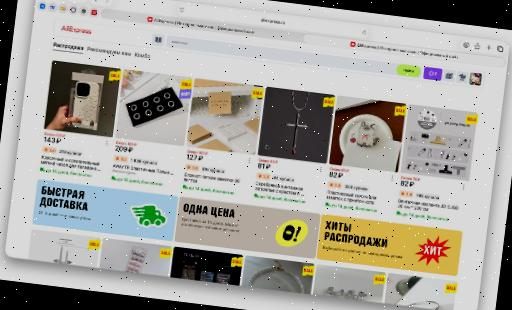aliexpress: (4, 12, 506, 310)
